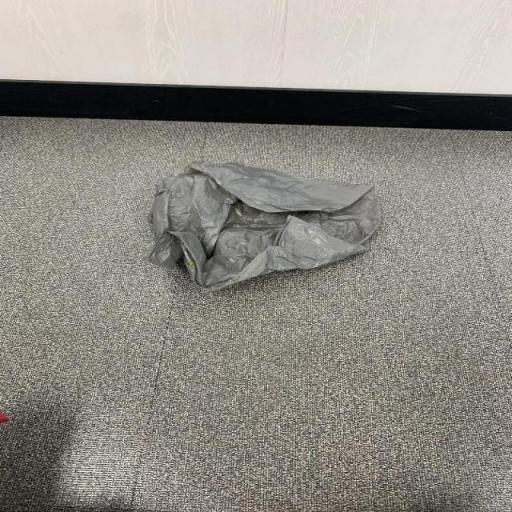plastic-bag: (140, 153, 394, 293)
